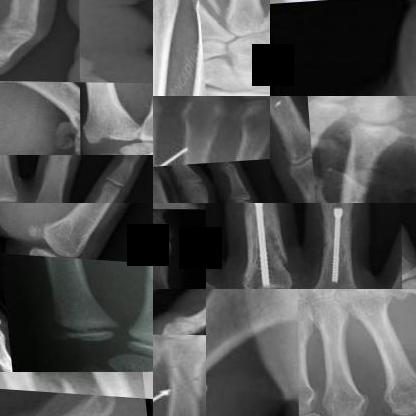fracture: (237, 203, 292, 289), (320, 203, 359, 289), (155, 354, 205, 403), (0, 372, 83, 391), (124, 257, 152, 312), (206, 329, 222, 415), (387, 229, 402, 288), (192, 0, 227, 20)
